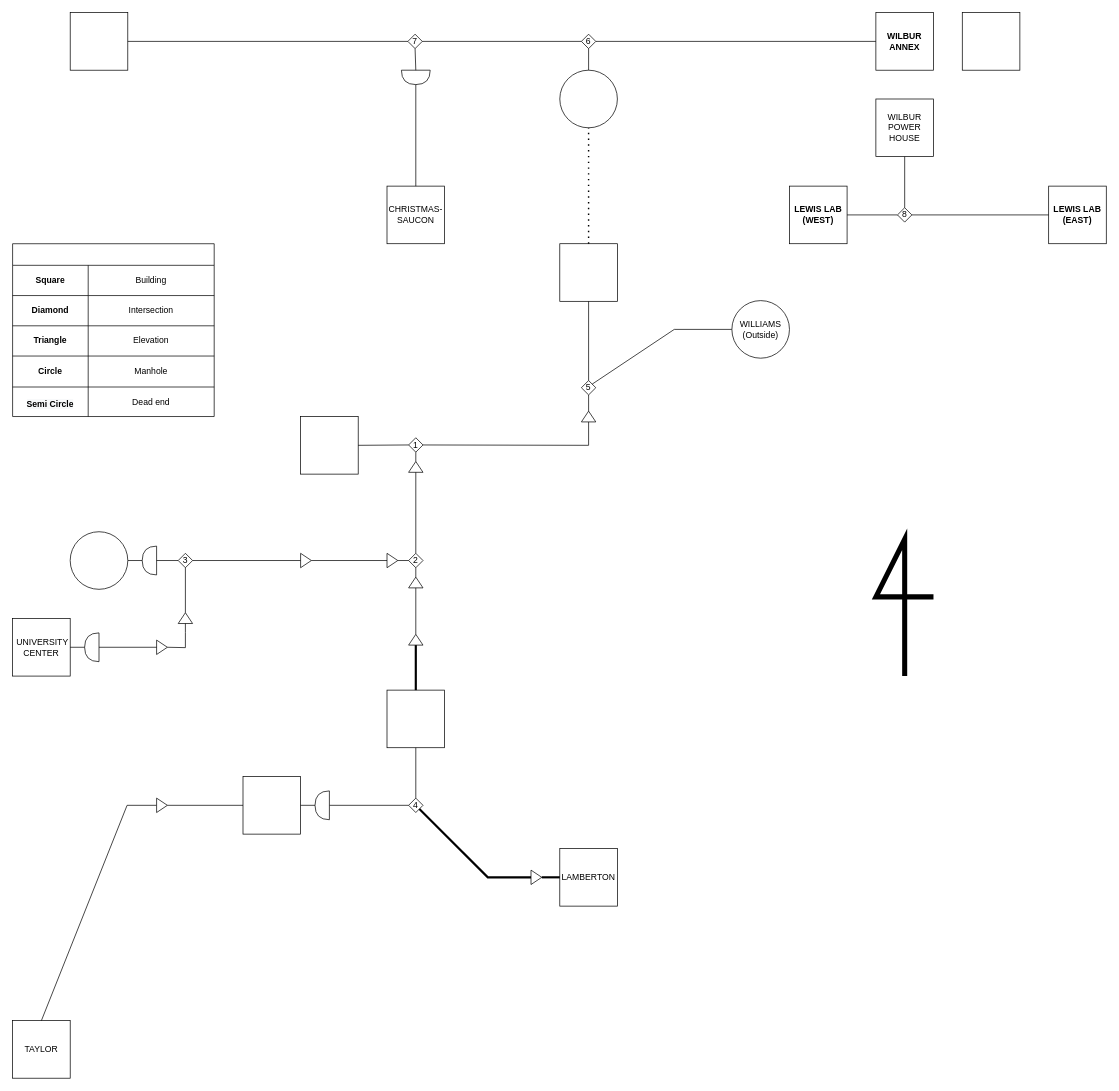
The diagram is 1119 pixels wide and 1091 high, and some of its shapes have lost their labels. Here are the shapes that lost their labels. From the top down, the box of each, then its label:
(69, 12, 128, 70): PACKARD
(962, 12, 1020, 70): GERTLER'S DRAGON
(559, 69, 617, 128): FRITZ (Parking Lot)
(559, 243, 617, 301): CHANDLER-ULLMANN
(12, 243, 214, 417): LEGEND
(300, 416, 358, 474): LINDERMAN
(69, 531, 128, 589): UC (Outside)
(386, 689, 445, 748): COPPEE
(242, 776, 301, 834): DROWN
